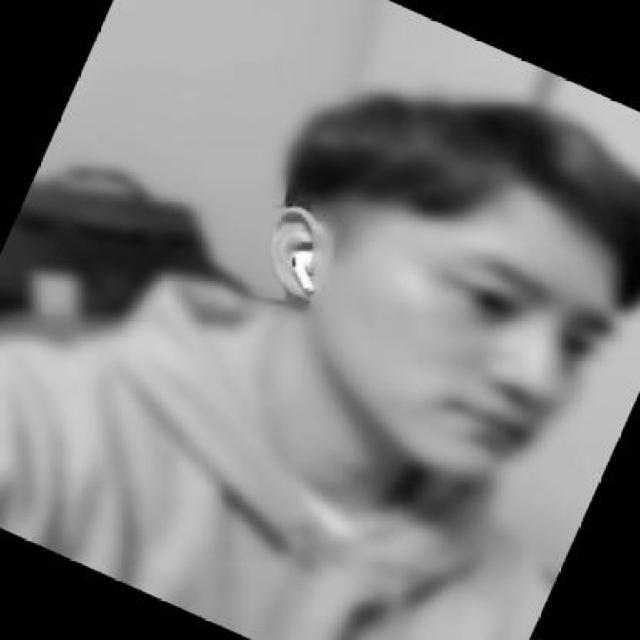earphone: (282, 239, 342, 316)
